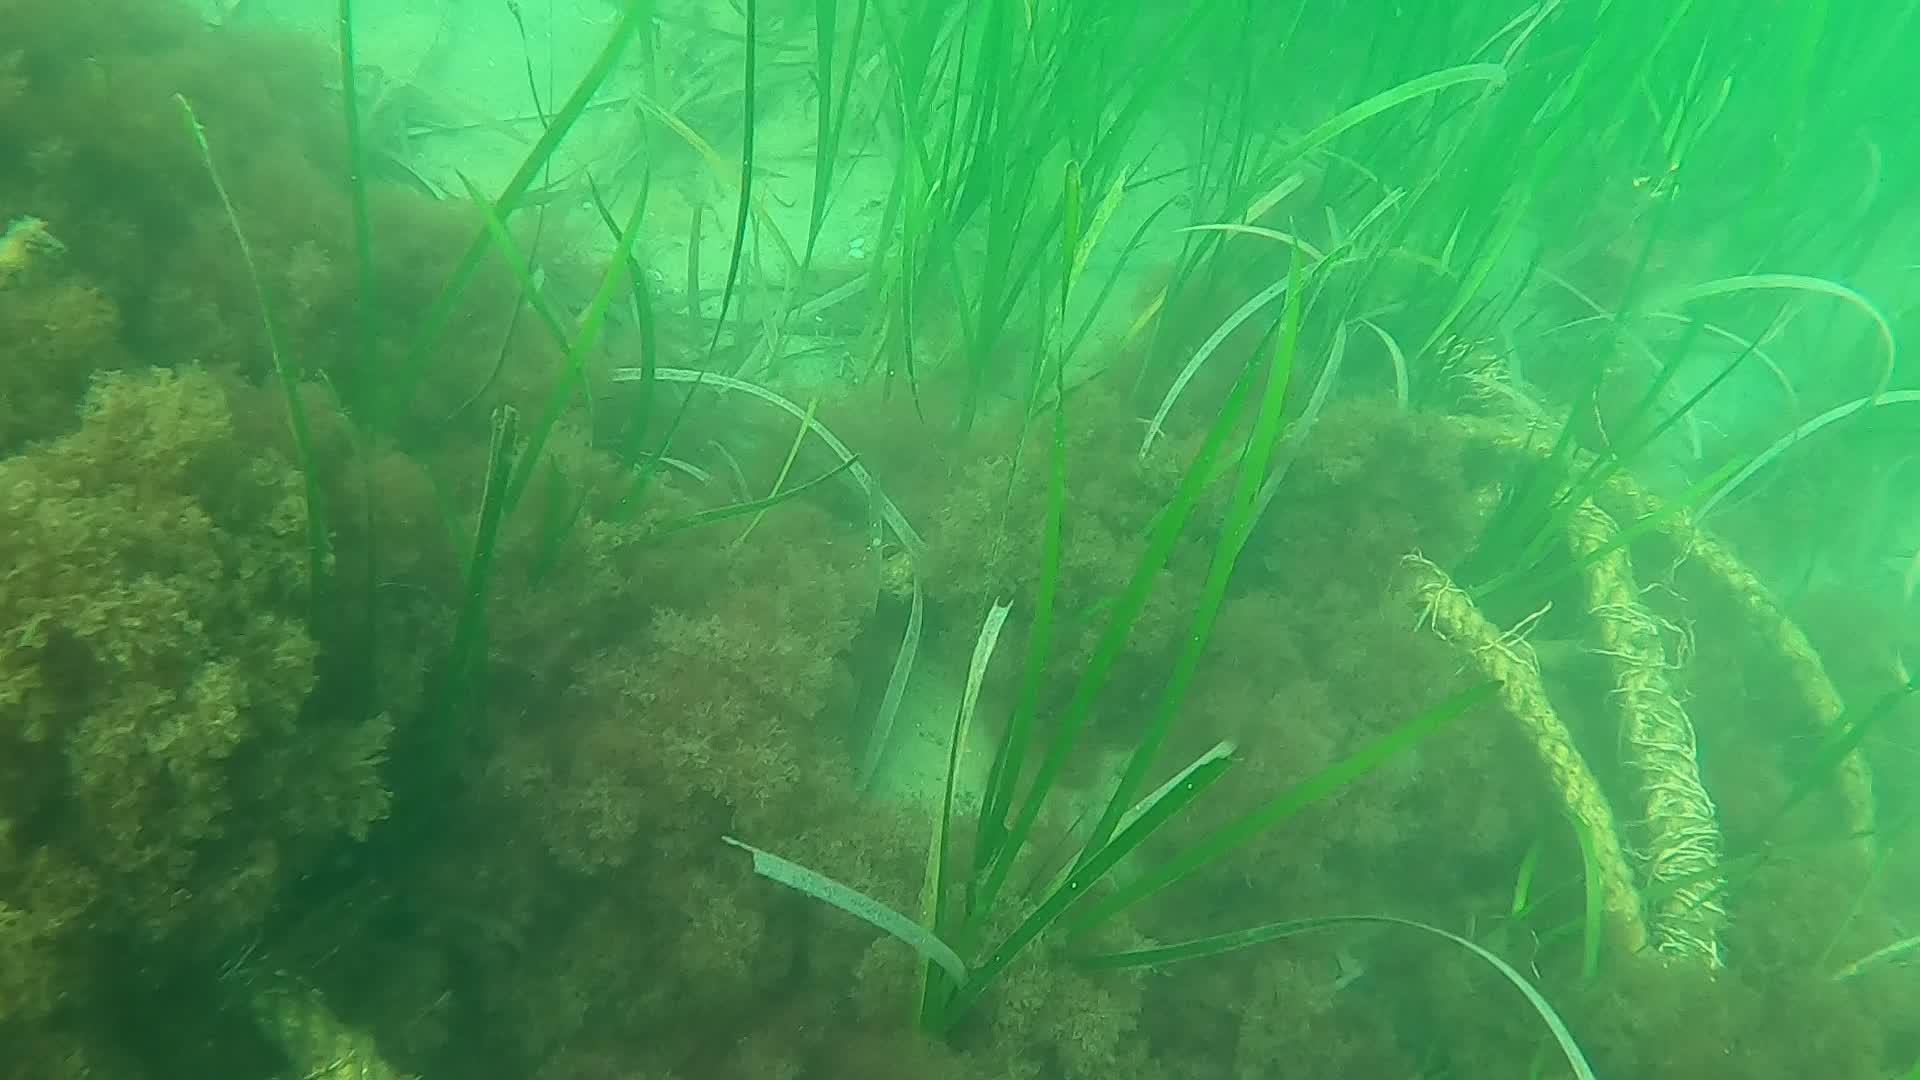bundle of ropes: (1412, 407, 1884, 963)
rope: (210, 918, 407, 1080)
